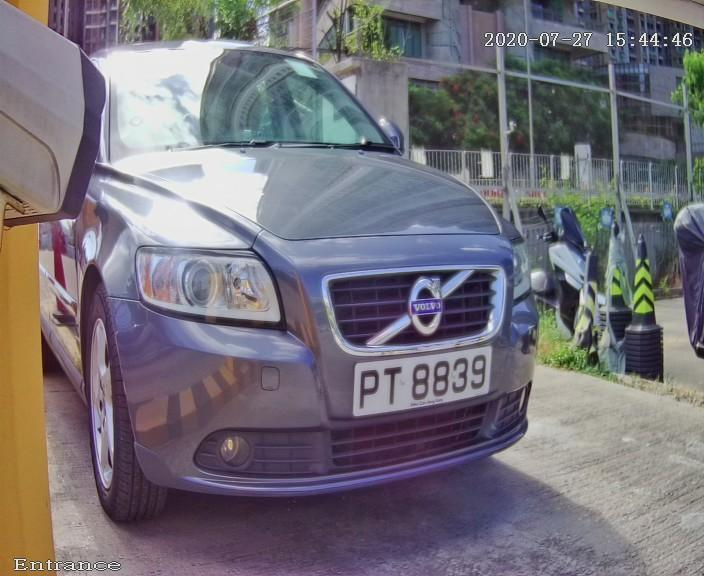privatecar: (23, 11, 604, 543)
